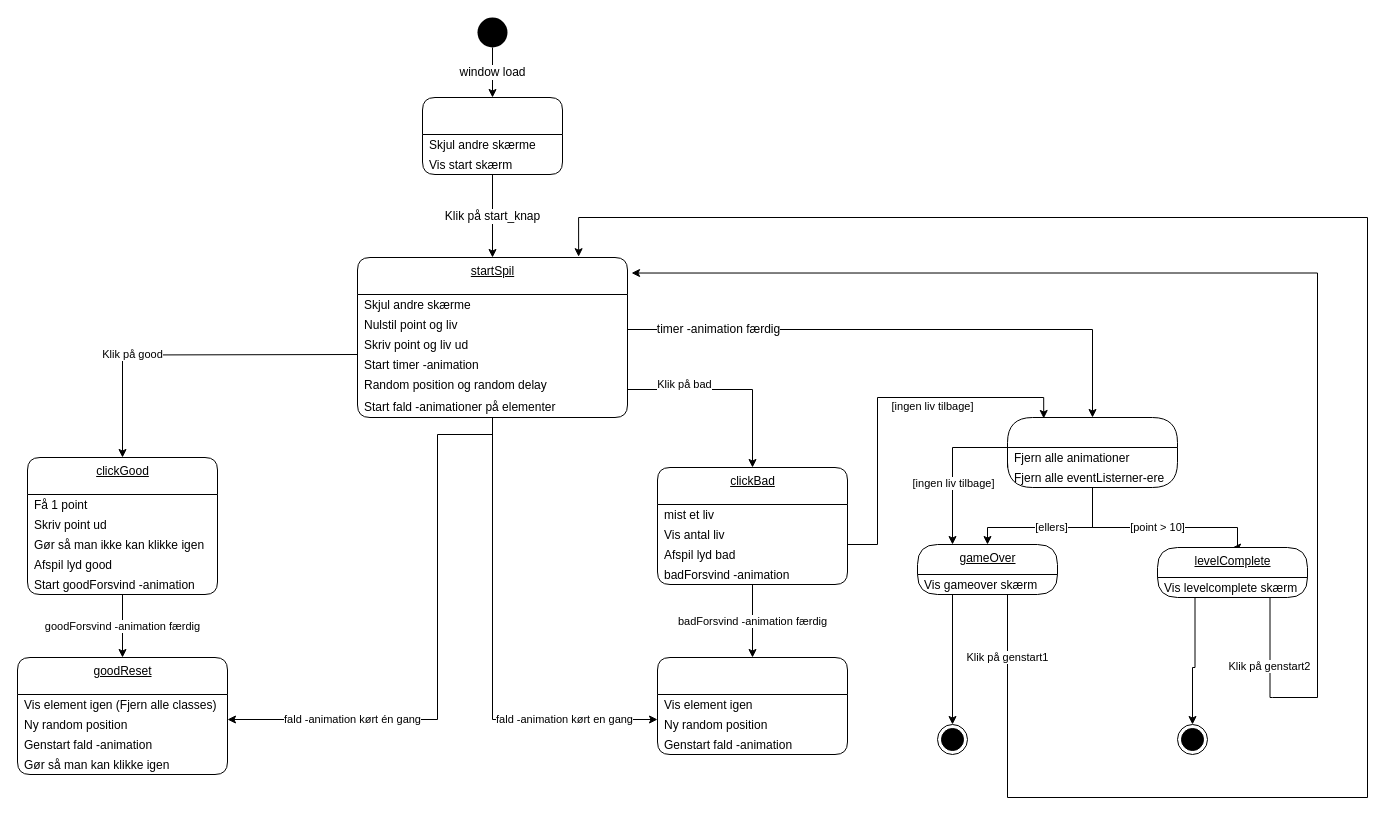
The diagram is 1393 pixels wide and 823 high, and some of its shapes have lost their labels. Each missing label, with the box of its shape:
badReset: (656, 656, 848, 754)
sidenVises: (422, 96, 562, 174)
stopSpillet: (1006, 416, 1178, 488)
